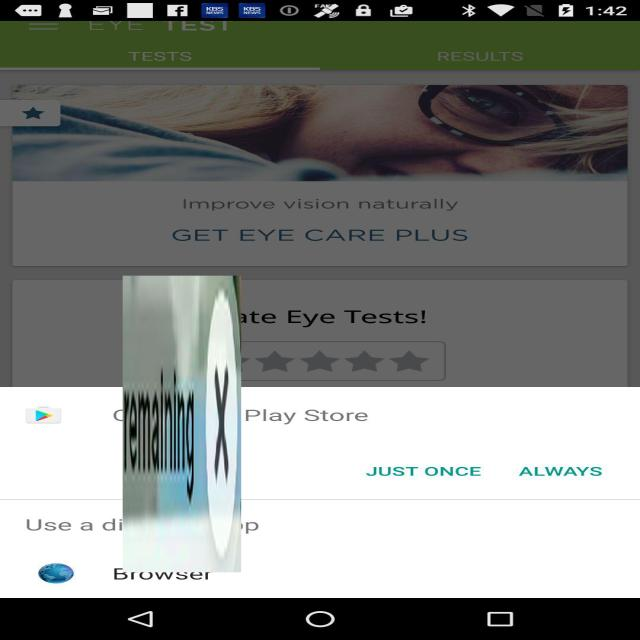misdirection: (123, 276, 241, 572)
